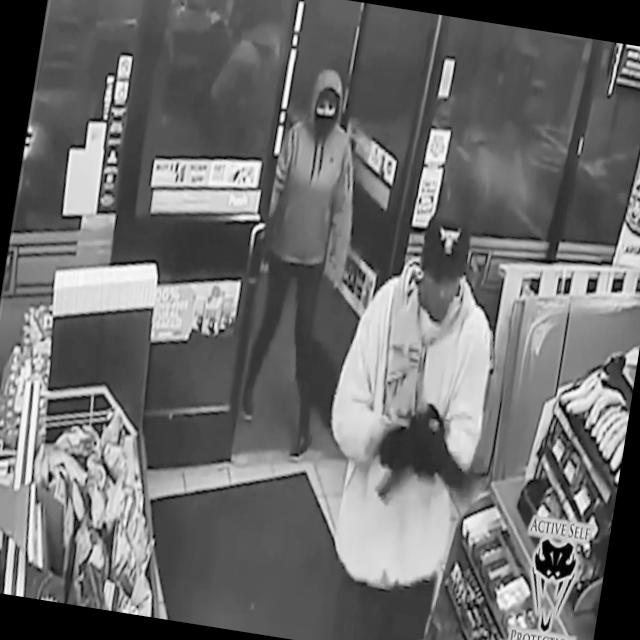gun: (364, 392, 484, 522)
person: (223, 56, 375, 467)
person with a gun: (293, 194, 521, 640)
